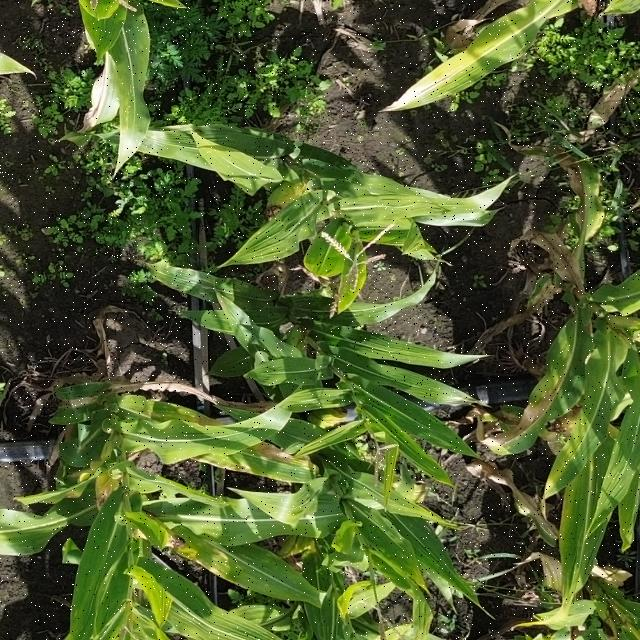gray-leaf-spot: (164, 532, 284, 589), (168, 268, 241, 307)
northern-leaf-blight: (486, 379, 576, 455), (89, 478, 126, 518)
southern-leaf-blight: (116, 82, 155, 143), (253, 457, 316, 491)
